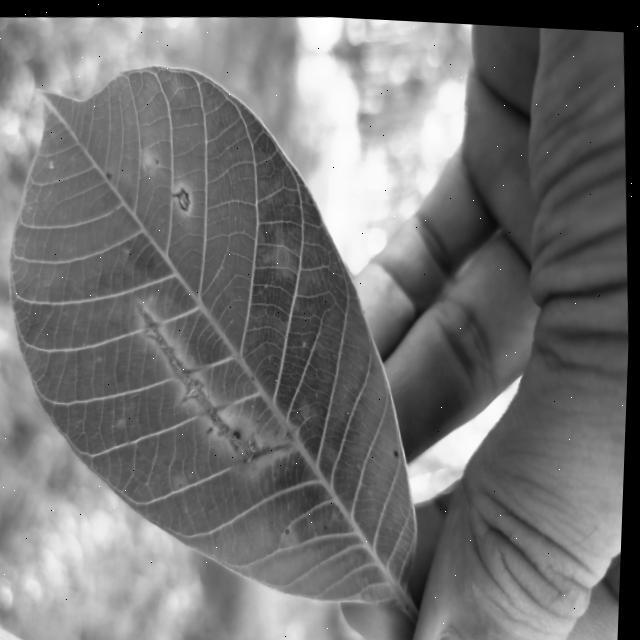Colletotrichum: (289, 525, 294, 530)
